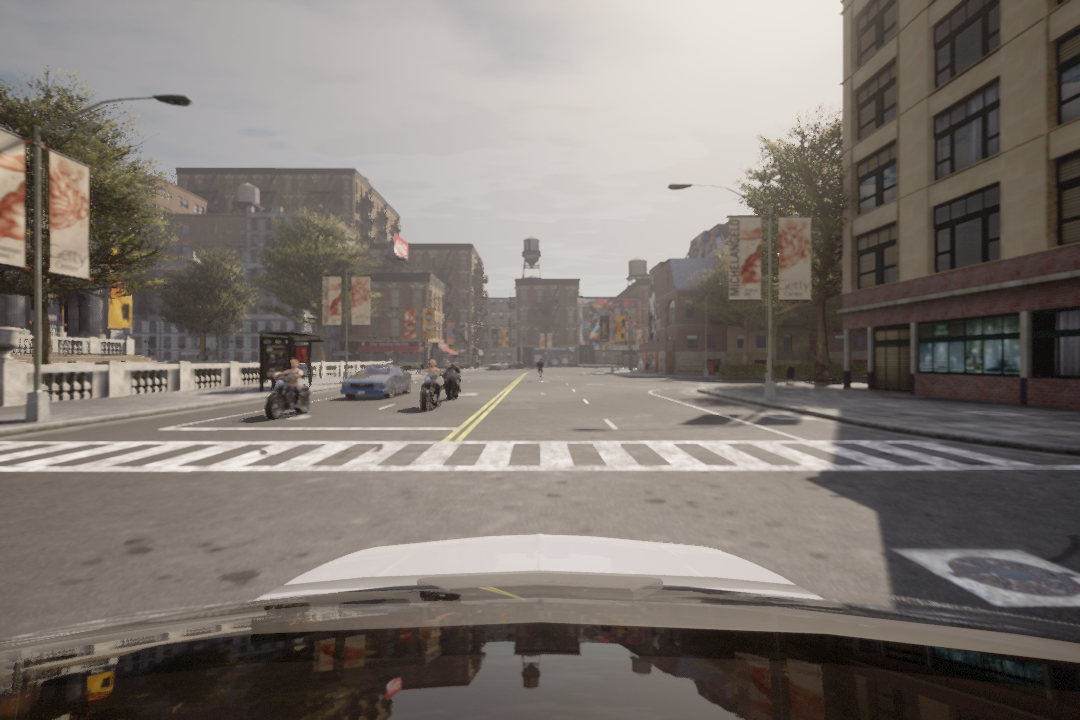walkside: (6, 437, 1051, 488)
